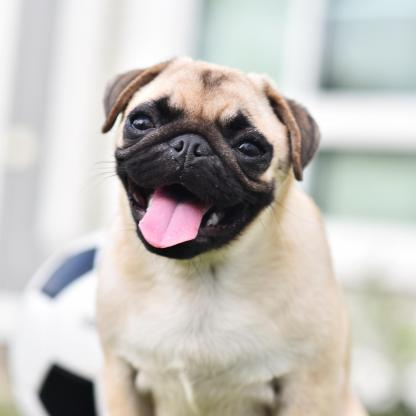cachorro: (65, 46, 359, 303)
